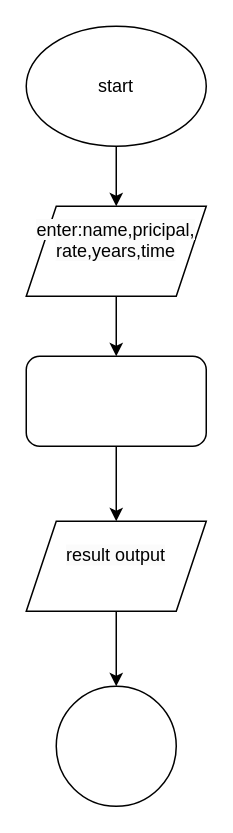
This 233x833 diagram has some shape labels left out. Each missing label, with the centre of its shape:
end: [115,745]
make a calculation according to the formula: [115,400]
